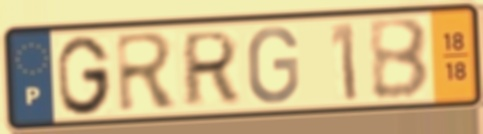1: (328, 19, 360, 104)
B: (365, 15, 432, 102)
G: (54, 32, 114, 118), (245, 24, 301, 107)
R: (112, 29, 182, 116), (180, 28, 242, 110)
